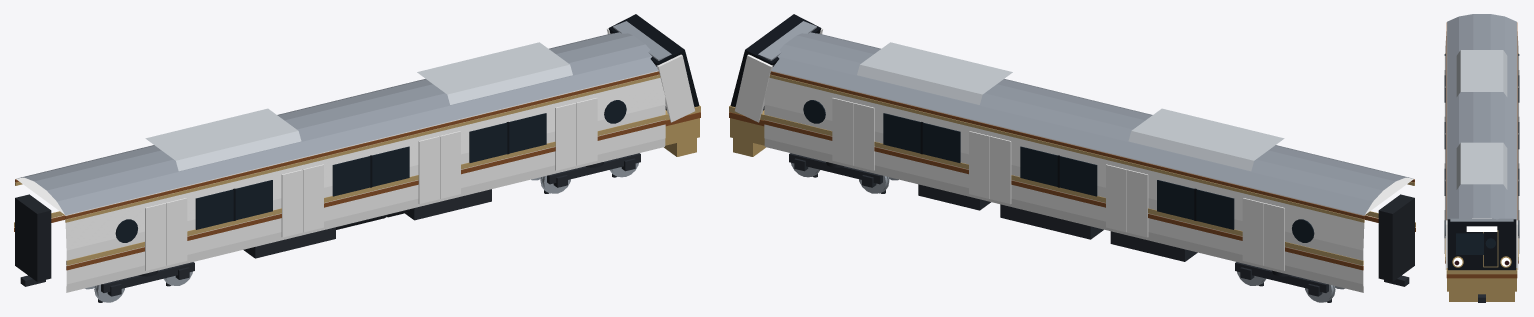
Rendered from tokyo-metro-17000-lead.glb.
3 renders of one model, left to right at view 1: azimuth 30°, elevation 25°; view 2: azimuth 150°, elevation 25°; view 3: azimuth 270°, elevation 25°, orthographic. The views are drawn at different scales.
Visible parts, largest first — view 1: Body_Shell, Roof_Crown, Roof_HVAC (×2), Car_Canonical, Doors_And_Windows, Lead_Cab_Aero_Front, Gangway_Rear, Underfloor_Equipment, Door_R_1_Fwd, Door_R_3_Rear, Door_R_4_Fwd, Door_R_1_Rear (+7 smaller); view 2: Body_Shell, Roof_Crown, Roof_HVAC (×2), Car_Canonical, Doors_And_Windows, Lead_Cab_Aero_Front, Underfloor_Equipment, Gangway_Rear, Door_L_1_Fwd, Door_L_3_Rear, Door_L_4_Fwd, Door_L_1_Rear (+7 smaller); view 3: Roof_Crown, Roof_HVAC (×2), Aero_Sloped_Black_Dome, Lead_Cab_Aero_Front, Body_Shell, Doors_And_Windows, Car_Canonical, Destination_Sign_Front, Door_L_4_Fwd, Door_R_4_Fwd.
Part boxes in pixels (x1,y1,x2,y2): Body_Shell: [16, 70, 665, 292]; Roof_Crown: [17, 32, 658, 214]; Roof_HVAC (×2): [145, 42, 572, 171]; Car_Canonical: [14, 71, 665, 270]; Doors_And_Windows: [115, 100, 626, 242]; Lead_Cab_Aero_Front: [607, 21, 700, 156]; Gangway_Rear: [15, 194, 51, 286]; Underfloor_Equipment: [243, 189, 491, 258]; Door_R_1_Fwd: [166, 198, 187, 265]; Door_R_3_Rear: [418, 136, 439, 204]; Door_R_4_Fwd: [576, 98, 597, 165]; Door_R_1_Rear: [145, 203, 166, 270]; Body_Shell: [764, 70, 1413, 292]; Roof_Crown: [771, 32, 1412, 214]; Roof_HVAC (×2): [857, 42, 1284, 171]; Car_Canonical: [764, 71, 1415, 270]; Doors_And_Windows: [803, 100, 1314, 242]; Lead_Cab_Aero_Front: [729, 21, 822, 156]; Underfloor_Equipment: [918, 184, 1197, 261]; Gangway_Rear: [1378, 194, 1414, 286]; Door_L_1_Fwd: [1242, 198, 1263, 265]; Door_L_3_Rear: [990, 136, 1011, 204]; Door_L_4_Fwd: [832, 98, 853, 165]; Door_L_1_Rear: [1263, 203, 1284, 270]; Roof_Crown: [1447, 14, 1516, 219]; Roof_HVAC (×2): [1456, 50, 1507, 189]; Aero_Sloped_Black_Dome: [1447, 219, 1516, 270]; Lead_Cab_Aero_Front: [1445, 218, 1518, 302]; Body_Shell: [1445, 22, 1518, 249]; Doors_And_Windows: [1444, 54, 1519, 237]; Car_Canonical: [1445, 22, 1518, 263]; Destination_Sign_Front: [1466, 226, 1497, 231]; Door_L_4_Fwd: [1518, 203, 1519, 253]; Door_R_4_Fwd: [1444, 203, 1445, 253].
Bounding box in the file's own units: 20.44 × 4.07 × 2.88.
